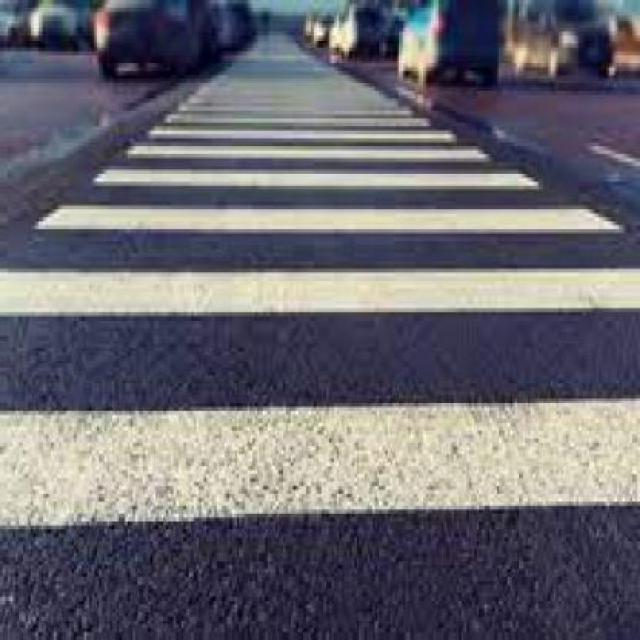Pedestrian crosswalk: (2, 27, 640, 550)
